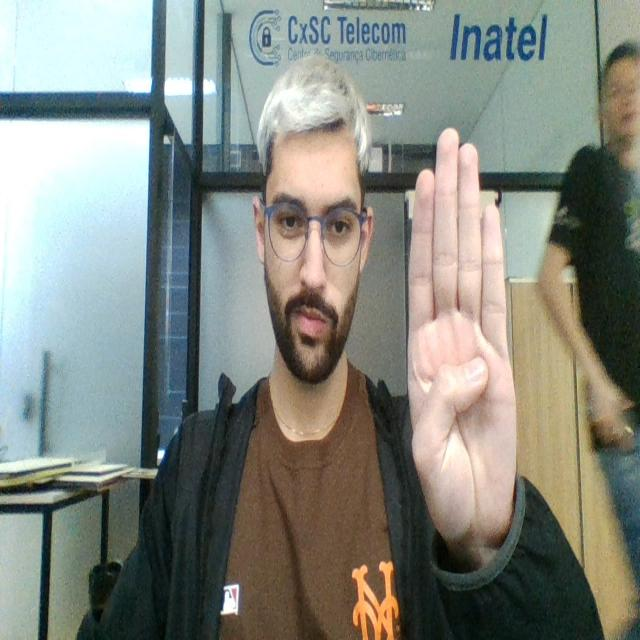B: (404, 125, 520, 542)
